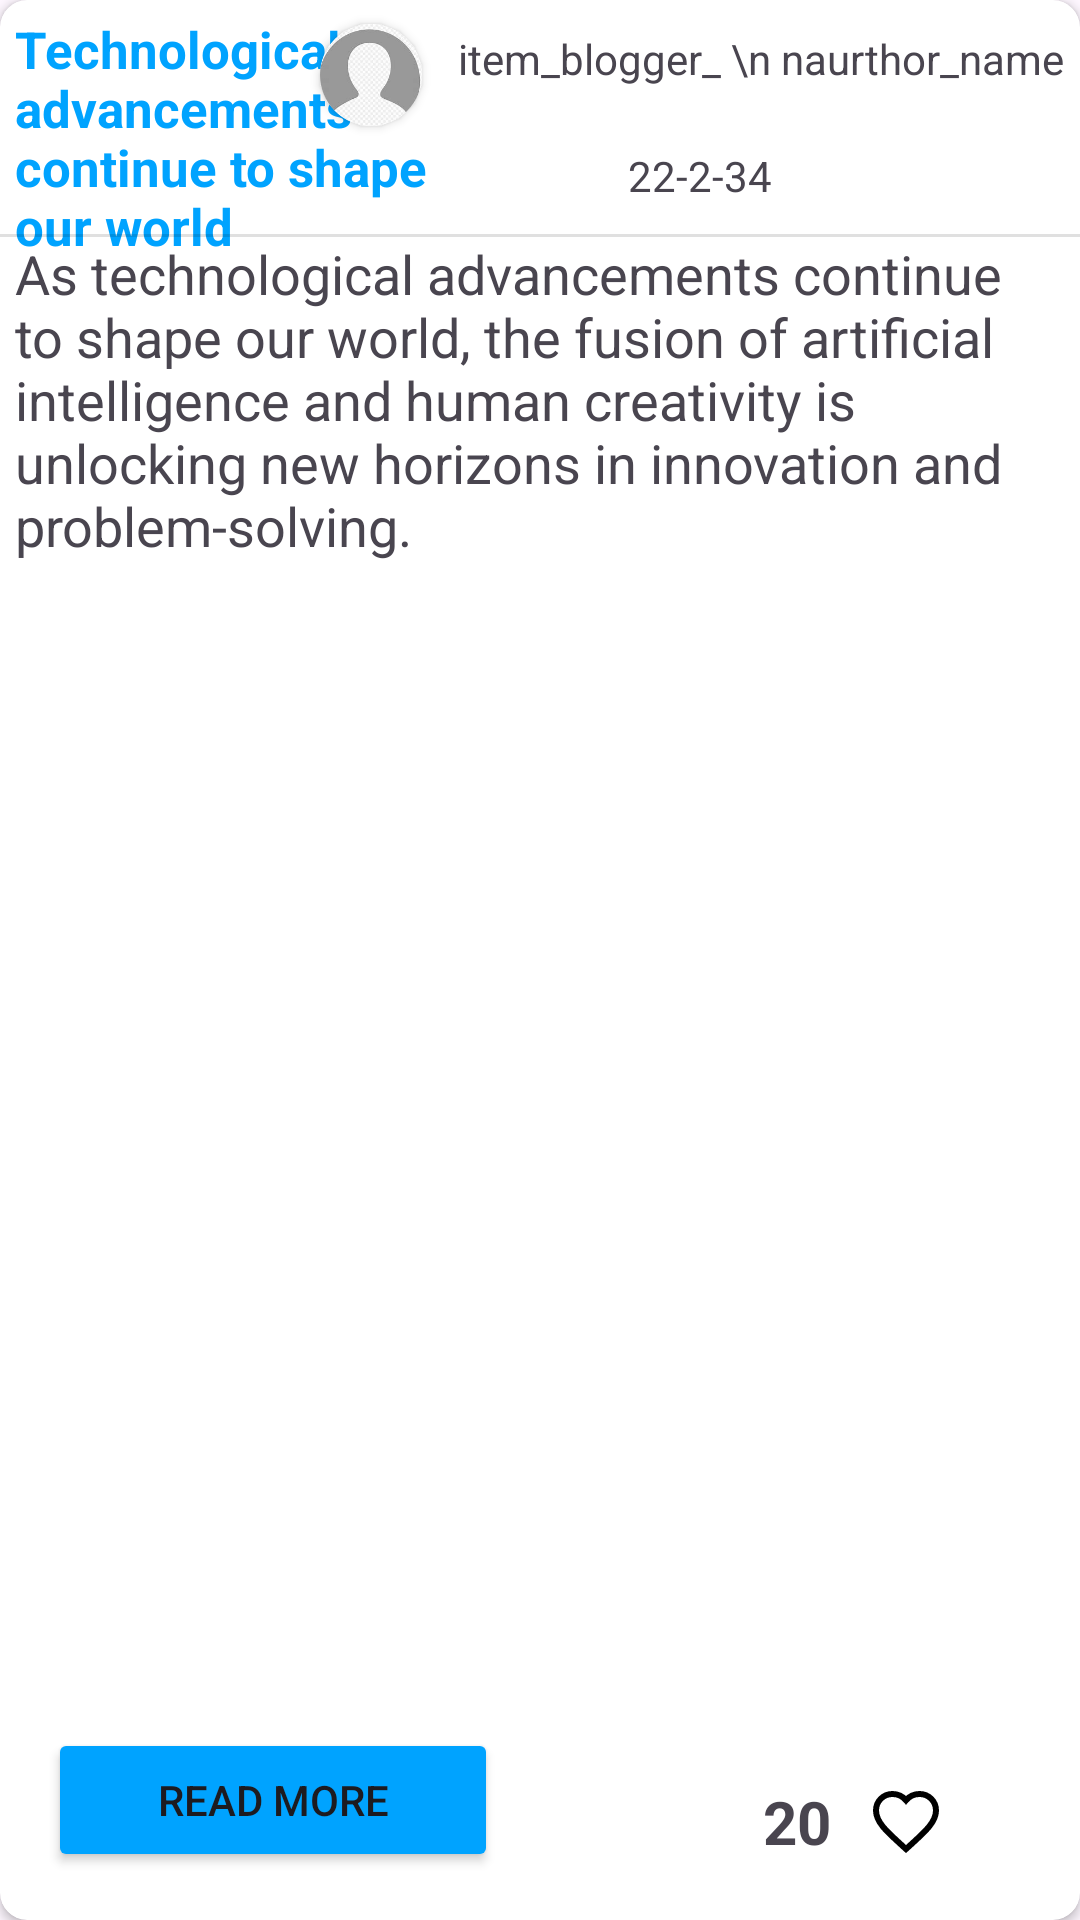

Icons on this 1080×1920 Android screen, each with the point to tap as [x,y]:
heart not: [906,1822]
registration defauult: [371,75]
